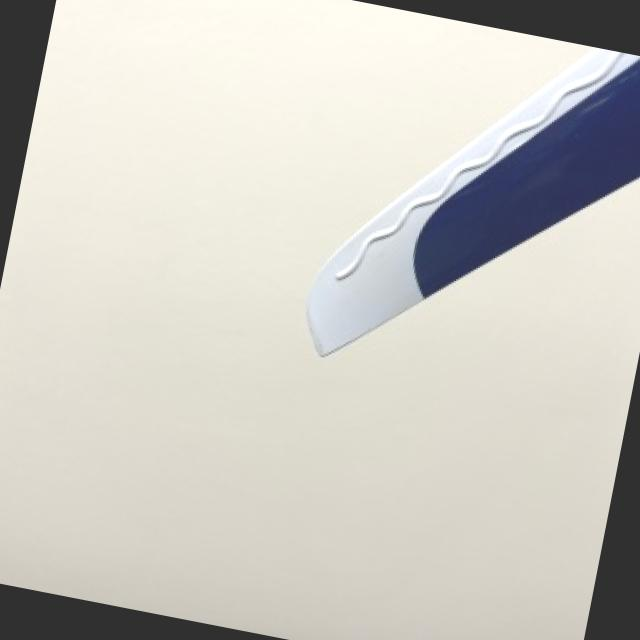healthy: (310, 49, 640, 353)
